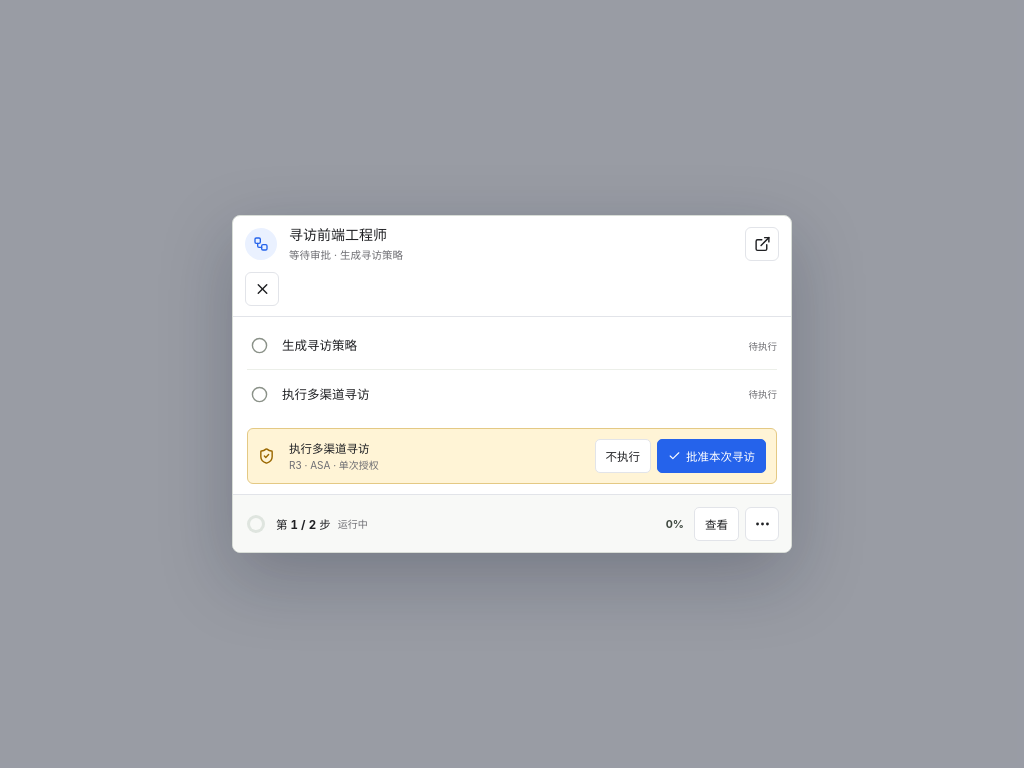
轻量工作流浮层 › 审批写入失败时保留待审批入口
This screenshot has width=1024, height=768.
Click the button "批准本次寻访". click: (712, 456)
box: [657,439,766,473]
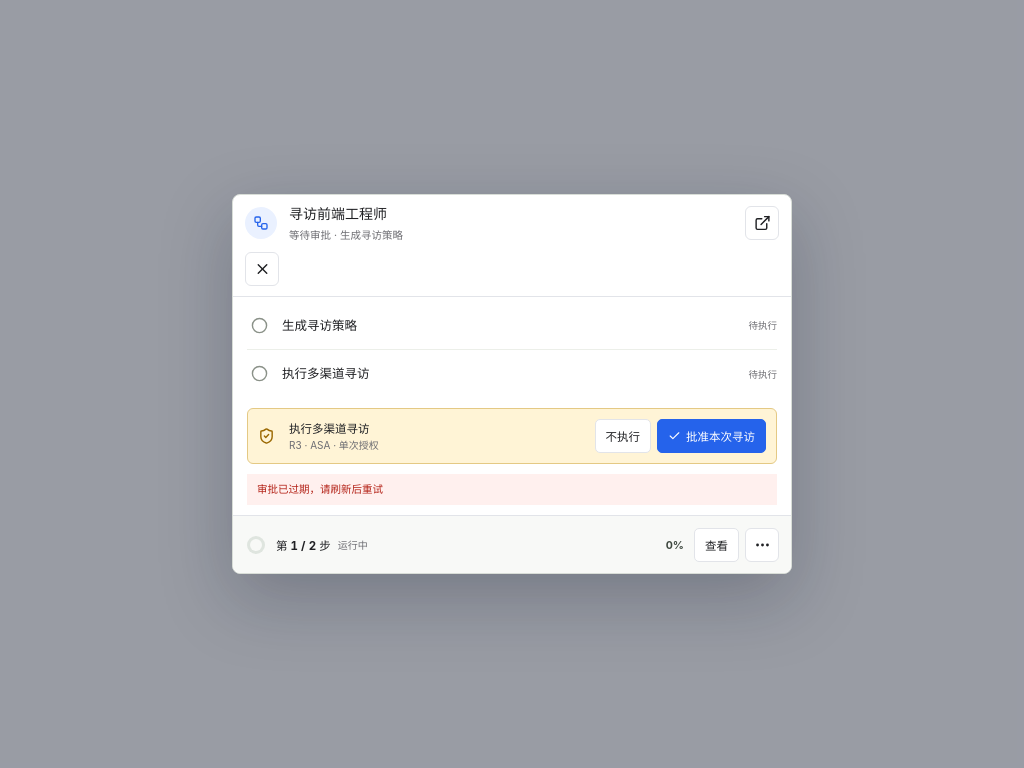
Expected: the button "批准本次寻访" is enabled, [657,419,766,453]
Expected: the message reads "审批已过期，请刷新后重试", [257,483,383,496]
